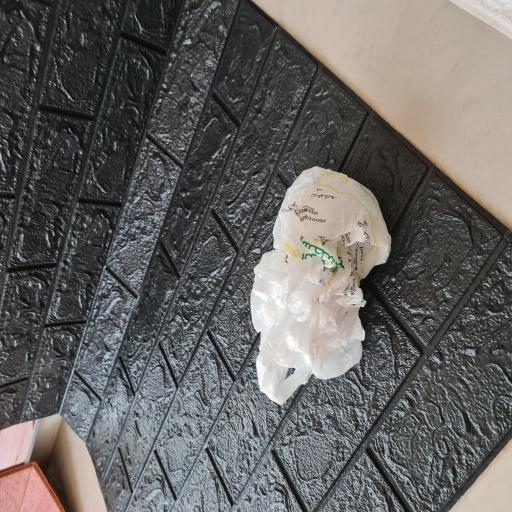plastic bag: (248, 164, 392, 406)
